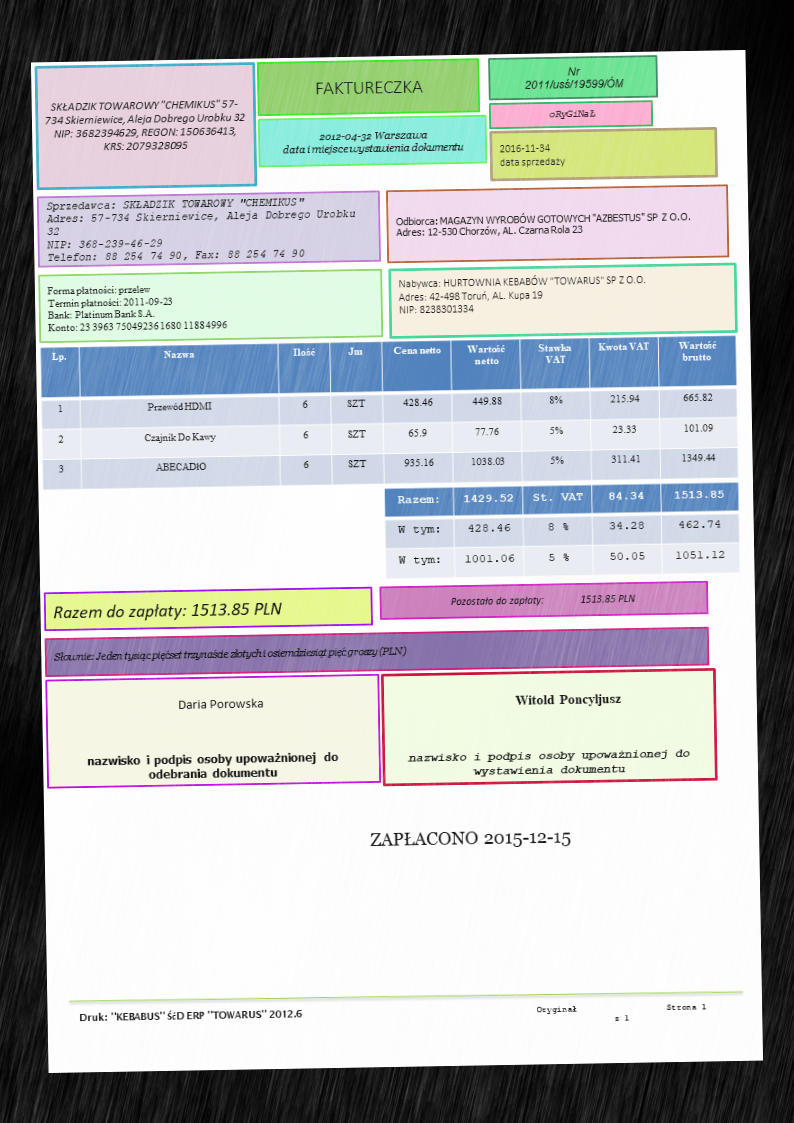Table: (39, 334, 739, 492), (381, 481, 742, 579)
TextBox: (43, 192, 359, 264), (42, 95, 248, 156), (396, 272, 647, 315), (43, 279, 230, 334), (404, 746, 691, 780), (50, 640, 408, 667), (394, 209, 693, 240), (83, 750, 341, 783), (49, 595, 284, 621), (366, 826, 573, 853), (280, 128, 467, 157), (75, 1003, 307, 1026), (534, 1001, 711, 1025), (446, 590, 637, 608), (521, 62, 626, 93), (311, 76, 427, 99), (512, 689, 625, 709), (497, 140, 567, 170), (174, 692, 267, 713), (546, 106, 599, 120)
